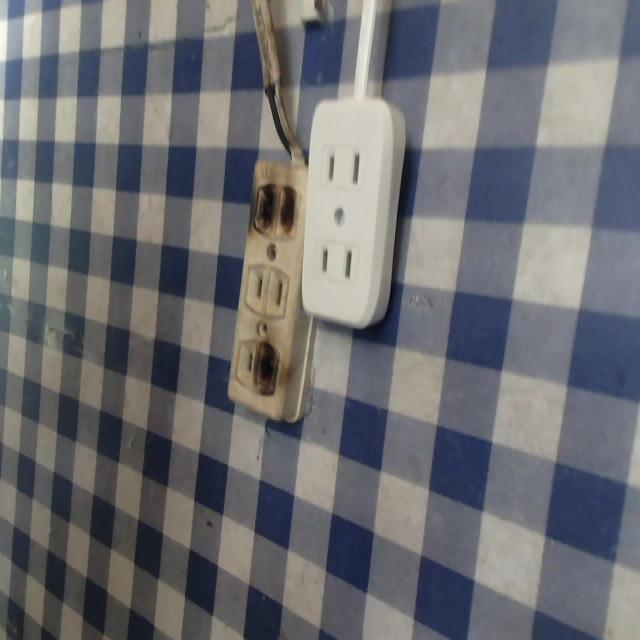-: (248, 177, 300, 240), (253, 339, 285, 405)
